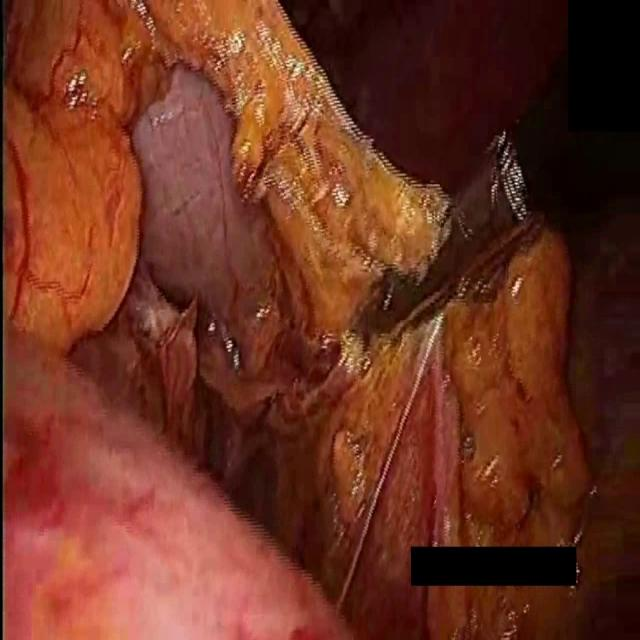surgical-area: (407, 548, 640, 639)
surgical-tool: (352, 51, 640, 326)
